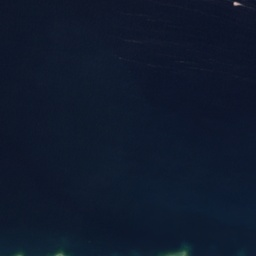Marine Debris: (233, 2, 242, 6)
